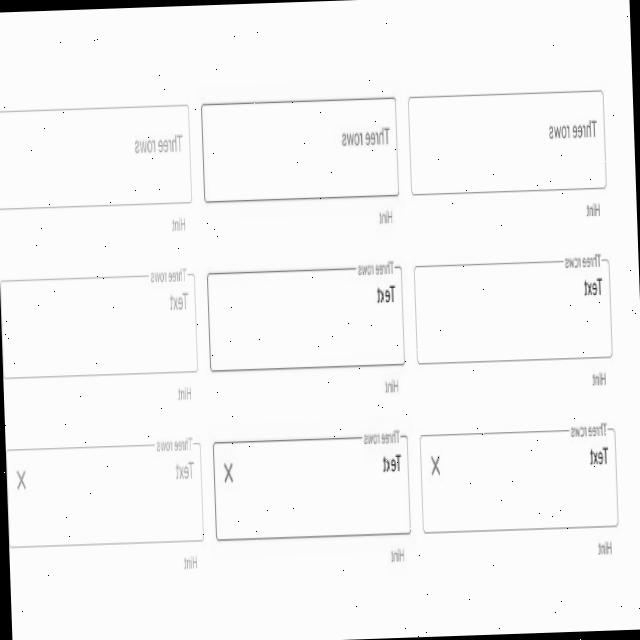VTextarea: (416, 418, 620, 562), (204, 256, 407, 400), (210, 426, 412, 569), (411, 250, 613, 392), (4, 432, 206, 574), (0, 263, 200, 406), (198, 92, 400, 232), (406, 85, 606, 223), (0, 99, 193, 236)
